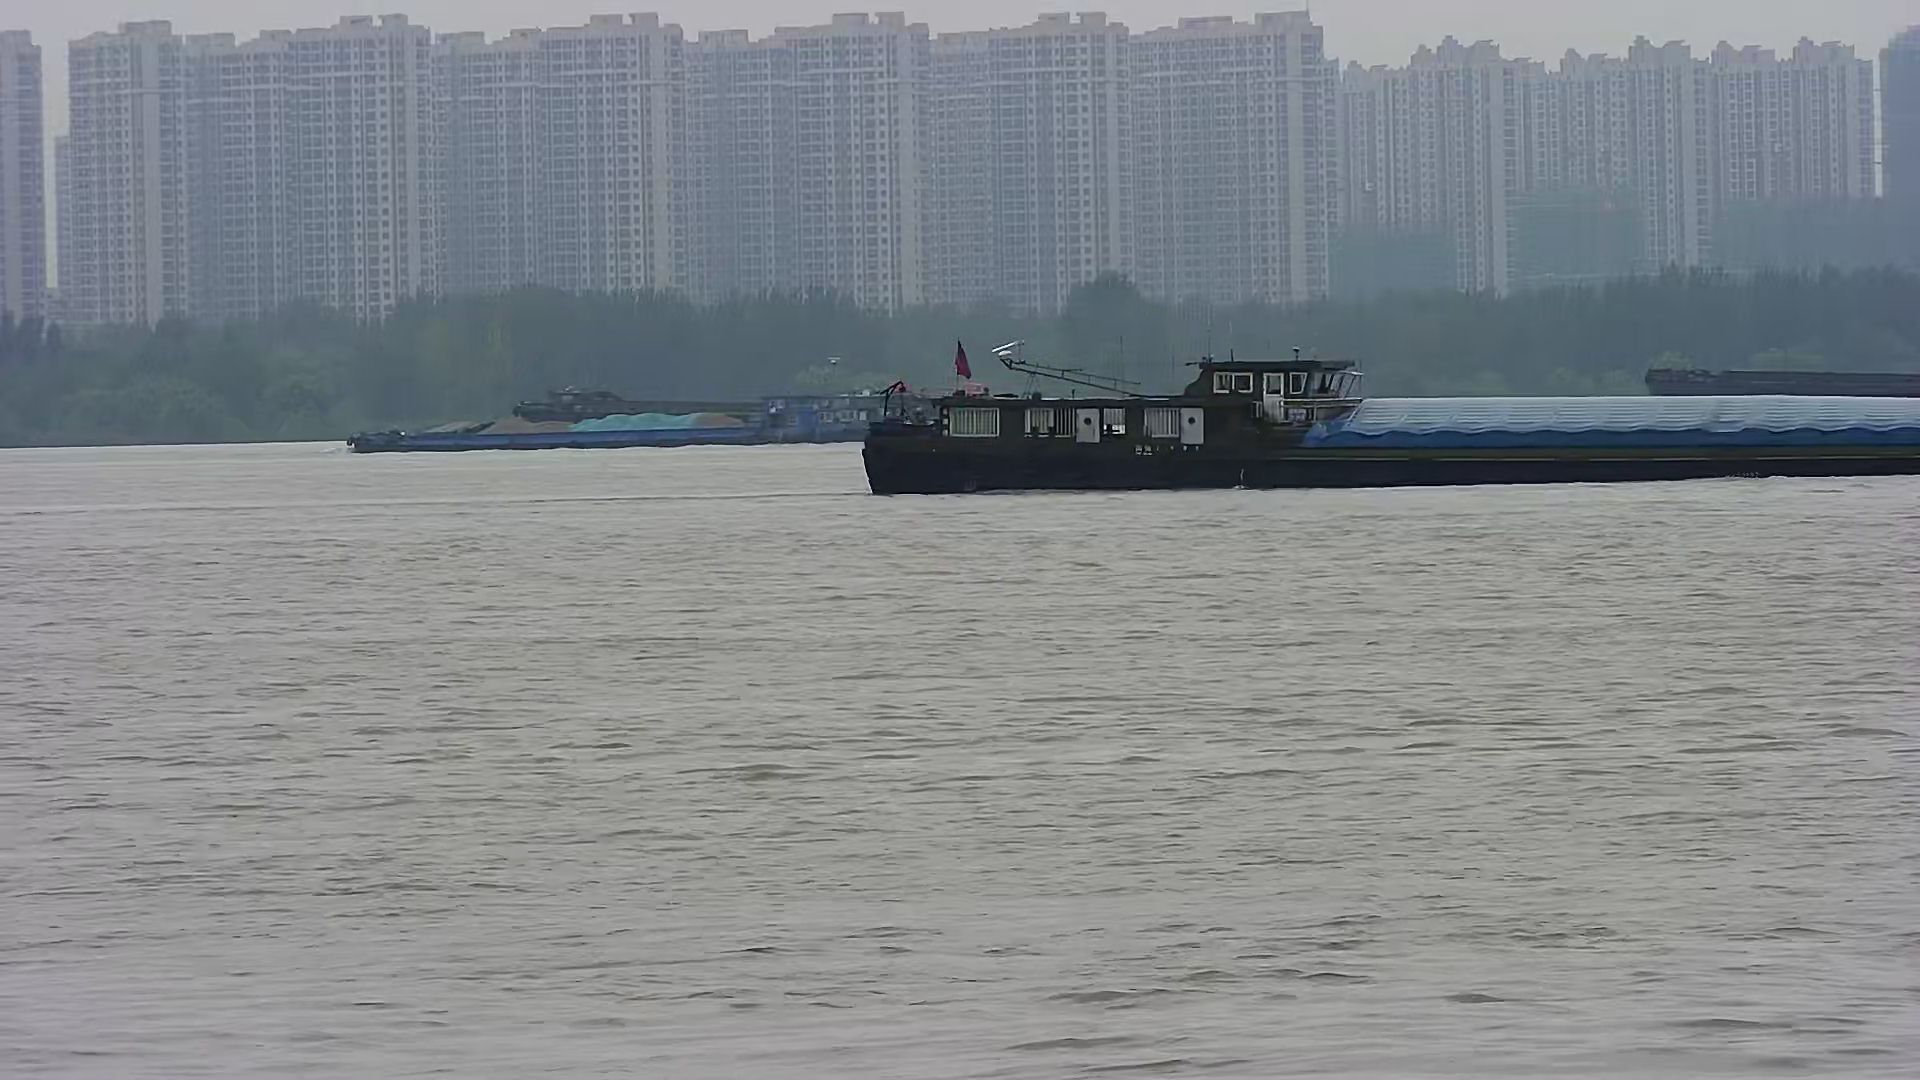ship: (857, 342, 1920, 496), (342, 410, 864, 454), (505, 382, 764, 422), (1644, 364, 1919, 397)
